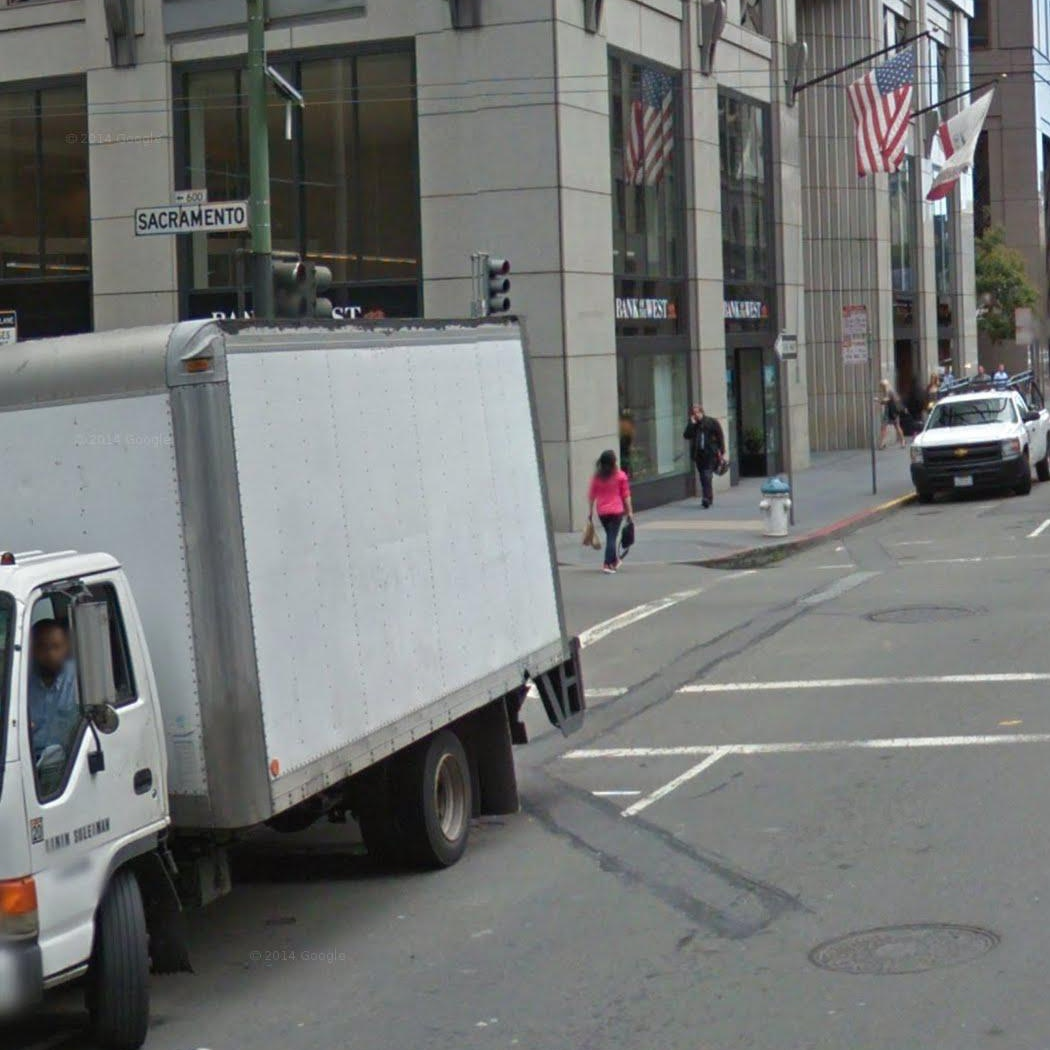No Parking: (840, 337, 869, 365)
